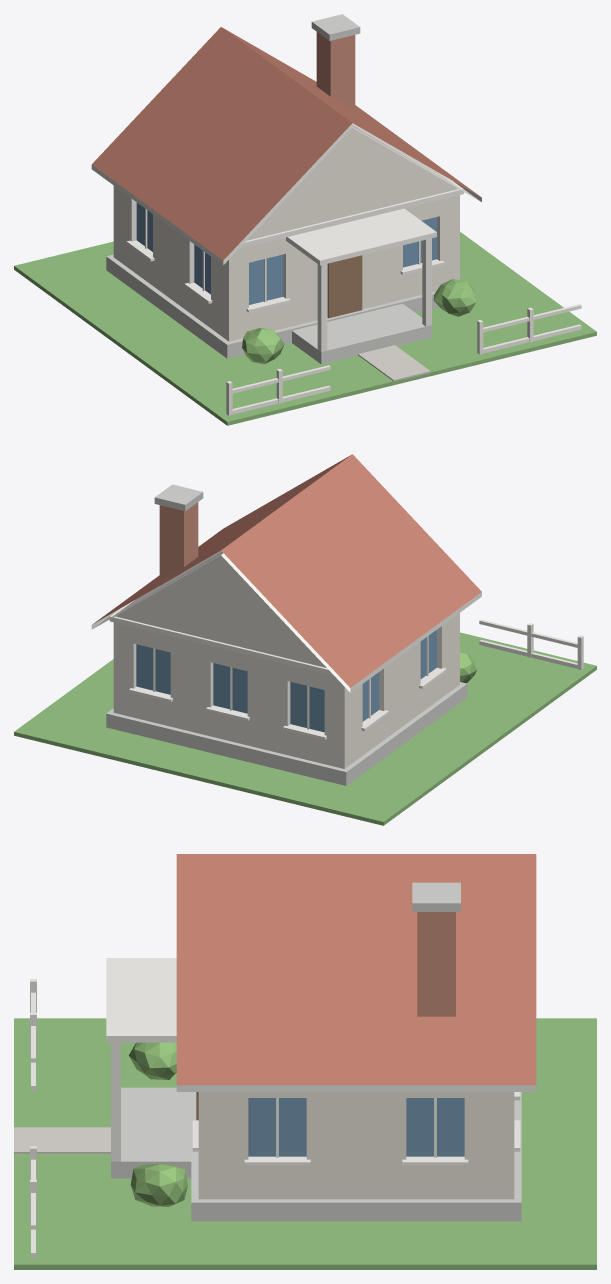
3 views of the same model, one above another, from view 1: azimuth 30°, elevation 25°; view 2: azimuth 150°, elevation 25°; view 3: azimuth 270°, elevation 25° (orthographic). The views are drawn at different scales.
Visible parts, largest first — view 1: r_1_1_a; view 2: r_1_1_a; view 3: r_1_1_a.
Part boxes in pixels (left/top/right/bottom): r_1_1_a: left=14, top=14, right=596, bottom=425; r_1_1_a: left=14, top=454, right=596, bottom=825; r_1_1_a: left=14, top=854, right=596, bottom=1269.
Bounding box in the file's own units: 12 × 6.95 × 12.
